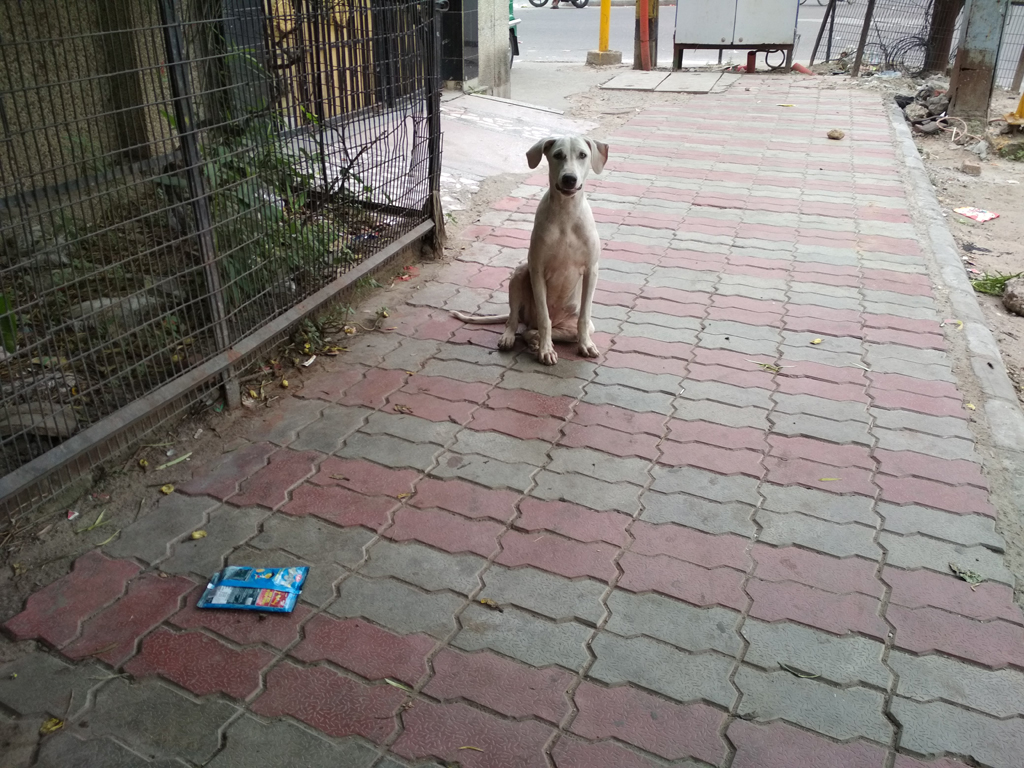dog: (448, 136, 609, 365)
